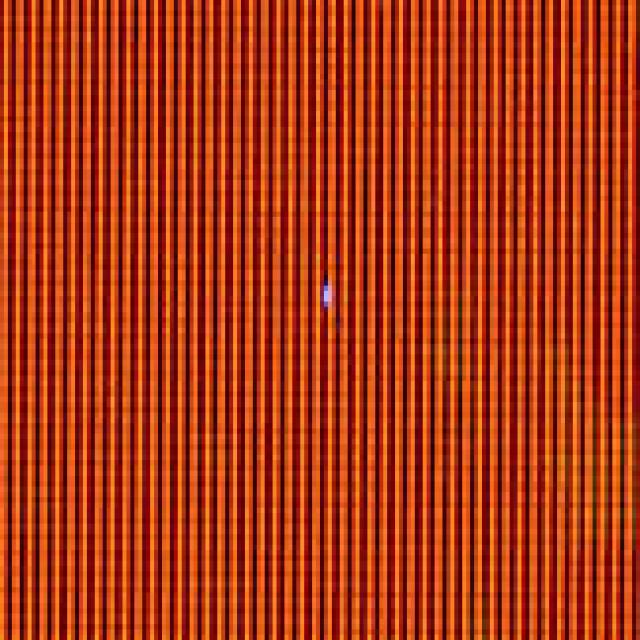dead_pixel: (317, 264, 339, 316)
